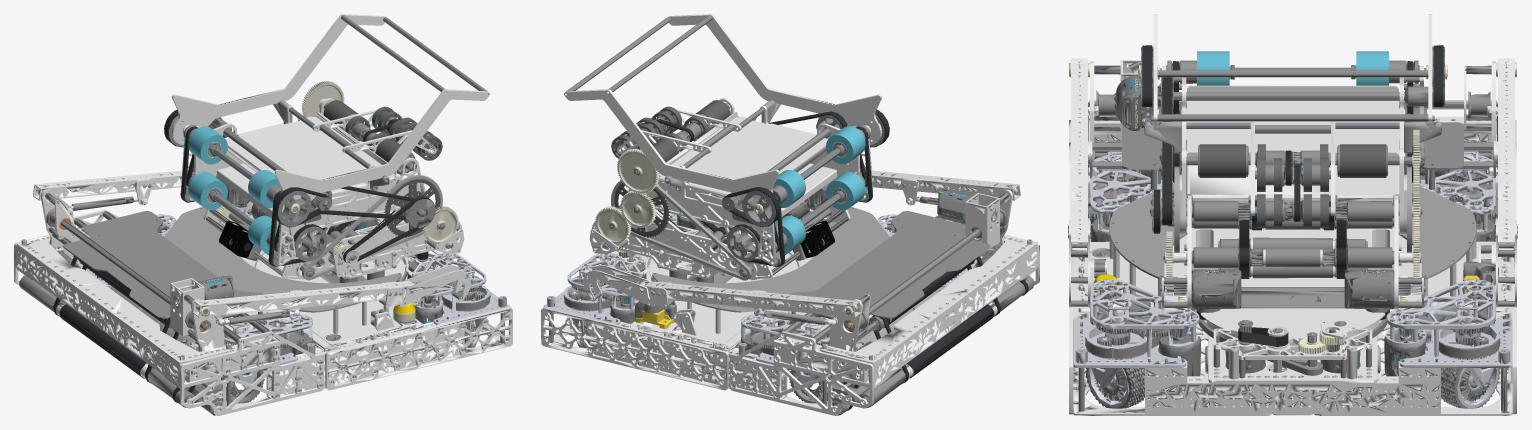
Rendered from typhoon-2910.glb.
The picture shows the model from 3 angles, left to right: view 1: azimuth 30°, elevation 25°; view 2: azimuth 150°, elevation 25°; view 3: azimuth 270°, elevation 25°; orthographic projection. The views are drawn at different scales.
Visible parts, largest first — view 1: shooter, intake, frame, climber, feeder, turret; view 2: shooter, intake, frame, climber, feeder, turret; view 3: frame, shooter, feeder, intake, turret, climber.
Boxes of the visible parts, x1=… form: shooter: x1=164, y1=14, x2=489, y2=266; intake: x1=14, y1=207, x2=423, y2=415; frame: x1=63, y1=211, x2=512, y2=408; climber: x1=33, y1=170, x2=471, y2=351; feeder: x1=203, y1=116, x2=464, y2=280; turret: x1=256, y1=218, x2=441, y2=283; shooter: x1=564, y1=14, x2=889, y2=266; intake: x1=630, y1=207, x2=1039, y2=415; frame: x1=541, y1=211, x2=990, y2=408; climber: x1=583, y1=170, x2=1020, y2=351; feeder: x1=589, y1=116, x2=850, y2=280; turret: x1=612, y1=218, x2=797, y2=283; frame: x1=1069, y1=109, x2=1516, y2=415; shooter: x1=1138, y1=14, x2=1447, y2=234; feeder: x1=1150, y1=166, x2=1425, y2=309; intake: x1=1069, y1=116, x2=1516, y2=329; turret: x1=1184, y1=228, x2=1401, y2=383; climber: x1=1068, y1=58, x2=1517, y2=322.
Size of the model in its own units: 0.789 by 0.549 by 0.6761.
